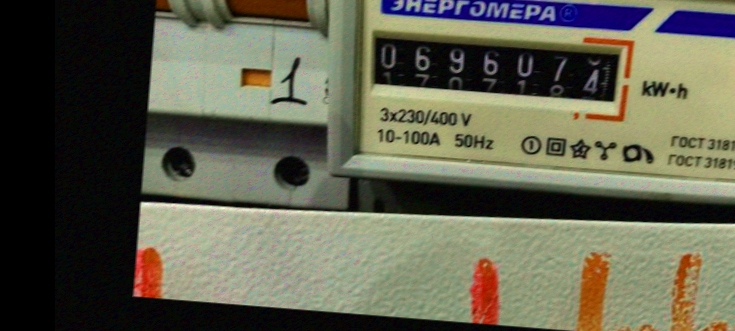0: (379, 39, 400, 69), (515, 48, 536, 77)
4: (581, 66, 601, 95)
6: (413, 42, 433, 71), (482, 46, 502, 75)
7: (549, 51, 570, 83)
9: (447, 45, 467, 74)
screen: (355, 14, 640, 123)
